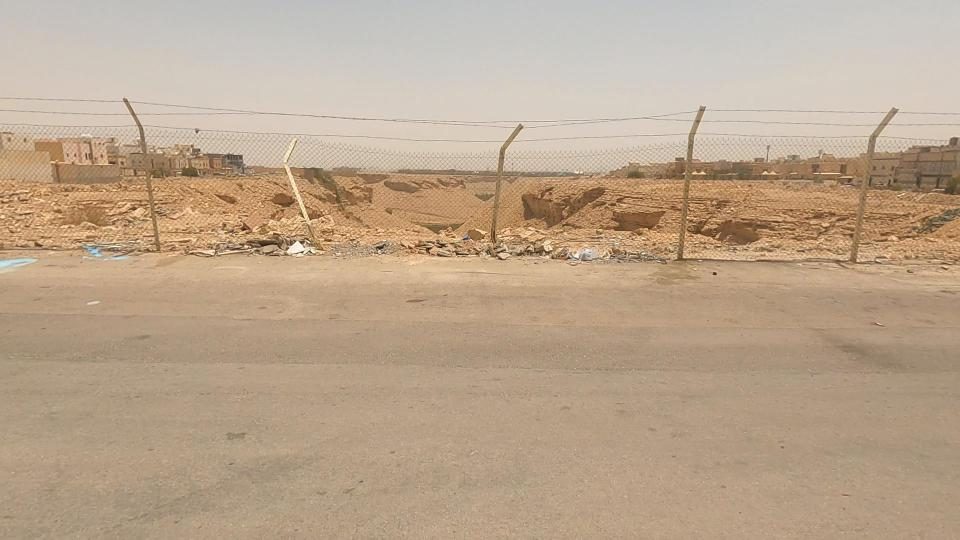GARBAGE: (156, 213, 369, 281), (52, 224, 167, 283), (533, 225, 631, 284)
